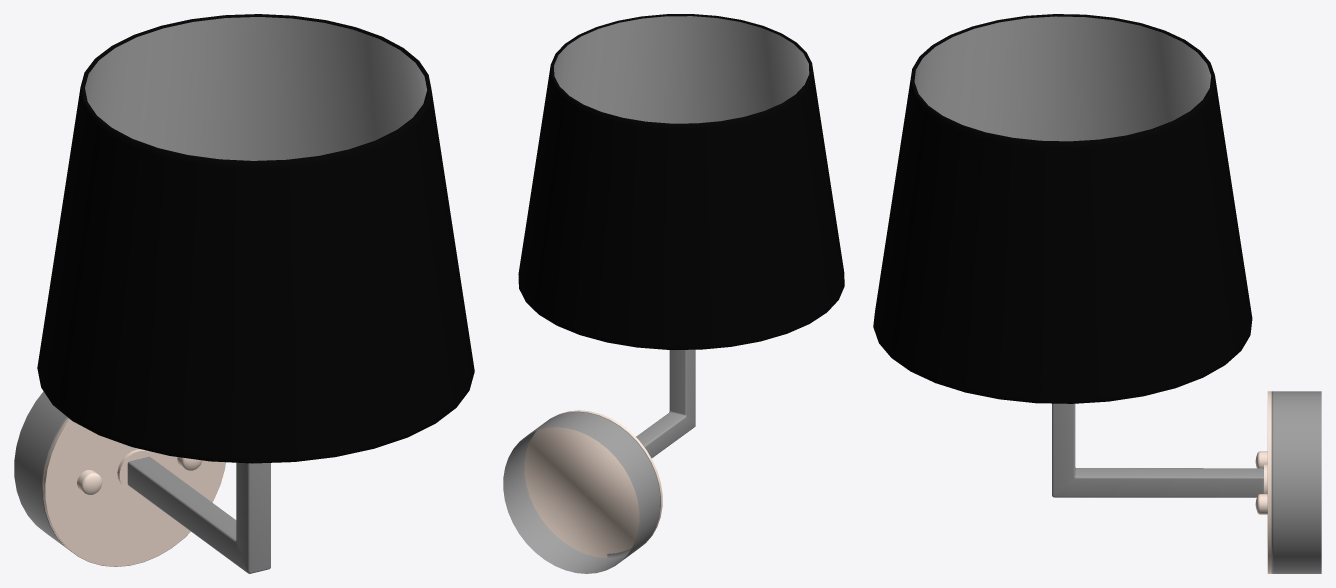
The model's file is faretti.fbx.
3 views of the same model, side by side, from view 1: azimuth 30°, elevation 25°; view 2: azimuth 150°, elevation 25°; view 3: azimuth 270°, elevation 25° (orthographic). The views are drawn at different scales.
Visible parts, largest first — view 1: Torsher, Torsher Zoloto, Metal disc, Metal ragok; view 2: Torsher, Torsher Zoloto, Metal ragok, Metal disc; view 3: Torsher, Torsher Zoloto, Metal ragok, Metal disc.
Boxes of the visible parts, x1,y1,x2,y2 form: Torsher: (37,14,474,463); Torsher Zoloto: (85,17,426,160); Metal disc: (43,418,225,566); Metal ragok: (14,391,270,573); Torsher: (518,14,844,349); Torsher Zoloto: (554,16,809,123); Metal ragok: (503,349,695,573); Metal disc: (524,410,662,557); Torsher: (873,14,1252,403); Torsher Zoloto: (914,16,1211,141); Metal ragok: (1052,391,1321,573); Metal disc: (1255,391,1271,573).
Bounding box in the file's own units: 19.66 × 27.91 × 23.25.
